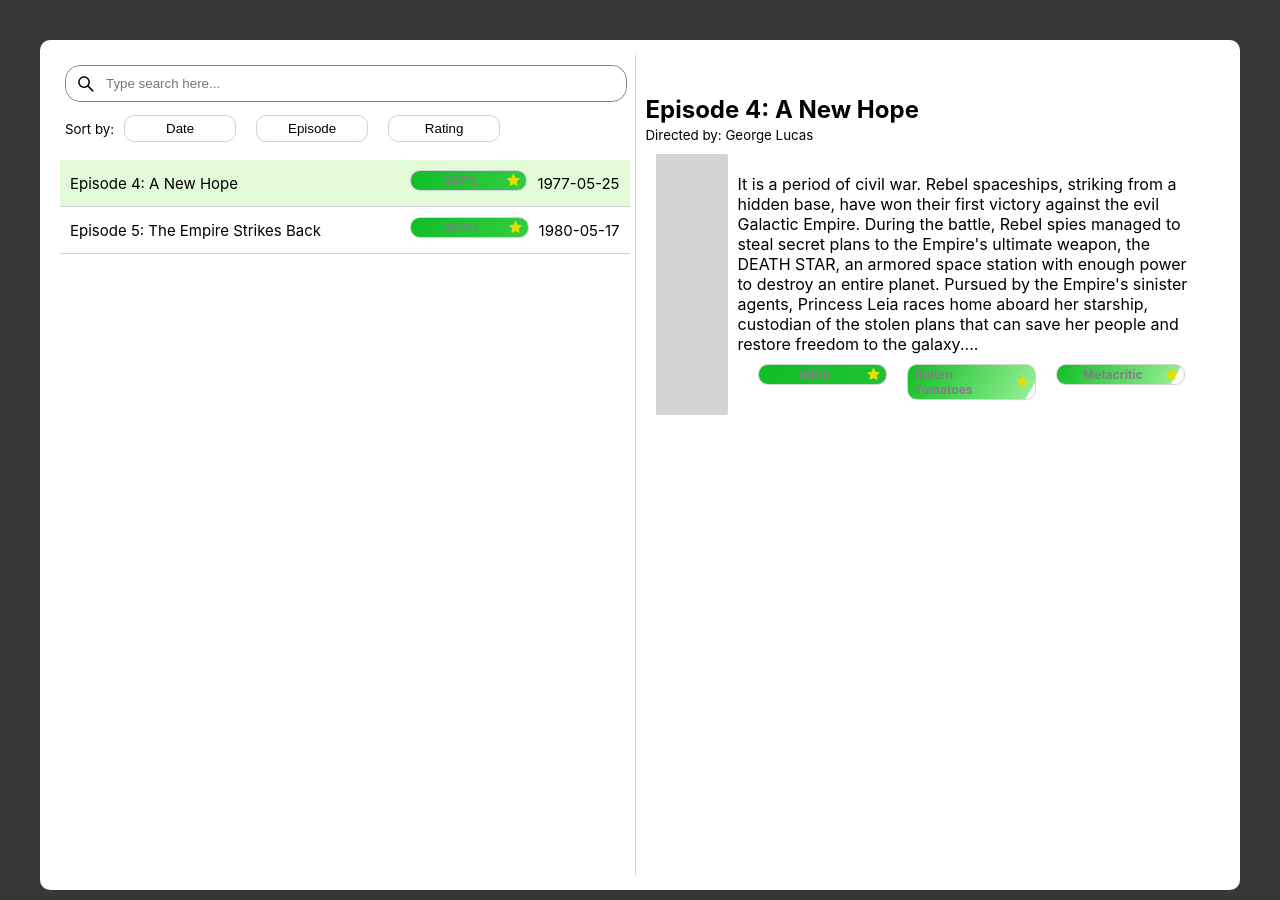
Test: HomePage component › Should filter list on search change
This screenshot has width=1280, height=900.
Expected: the number of elements with test id "filmItem" is 2, [60,160,630,207]; [60,207,630,254]
In the field with placeholder "Type search here...": (361, 84) [96,66,626,101], type "anew"
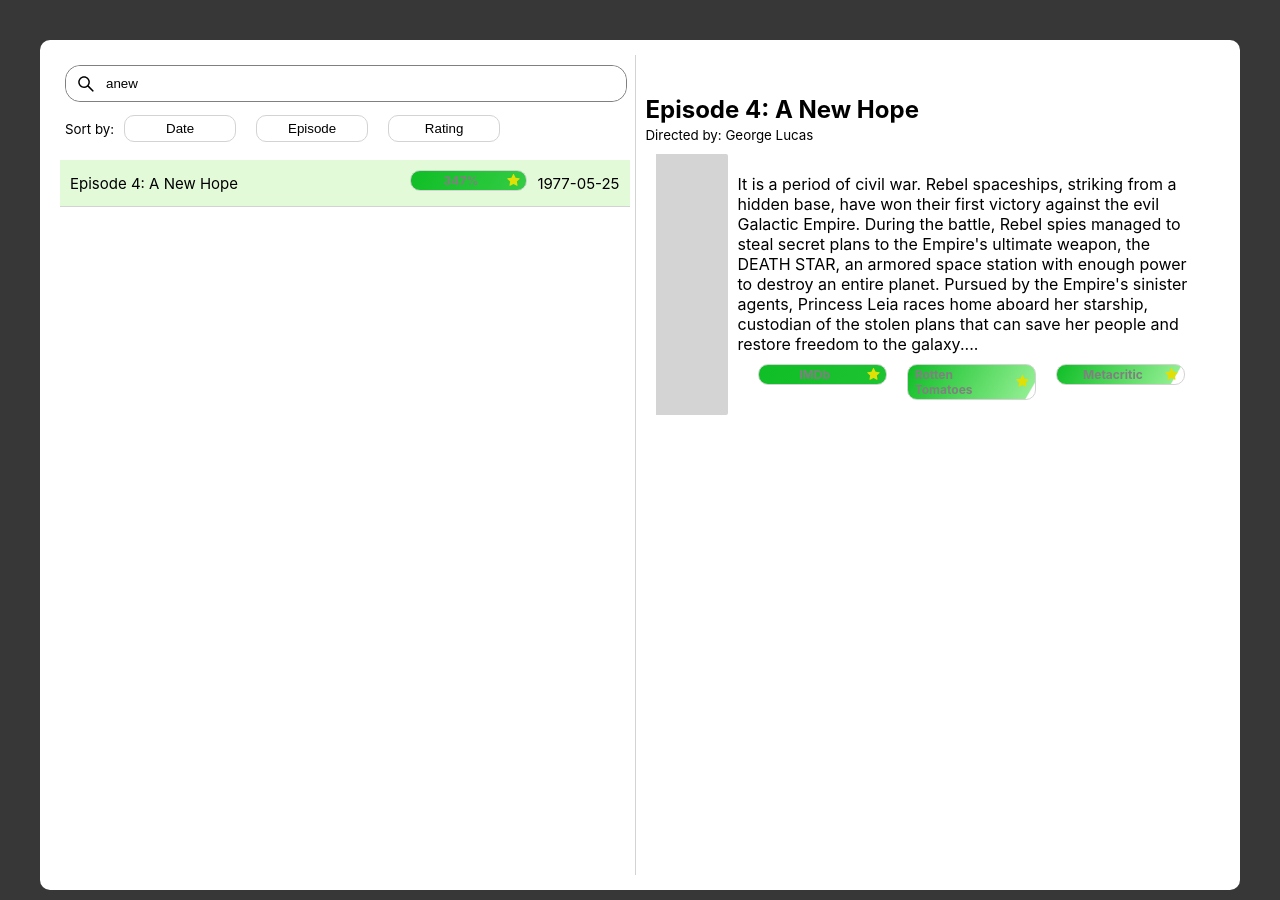
Now the number of elements with test id "filmItem" is 1, box [60,160,630,207]
Clear the field with placeholder "Type search here...": (361, 84) [96,66,626,101]
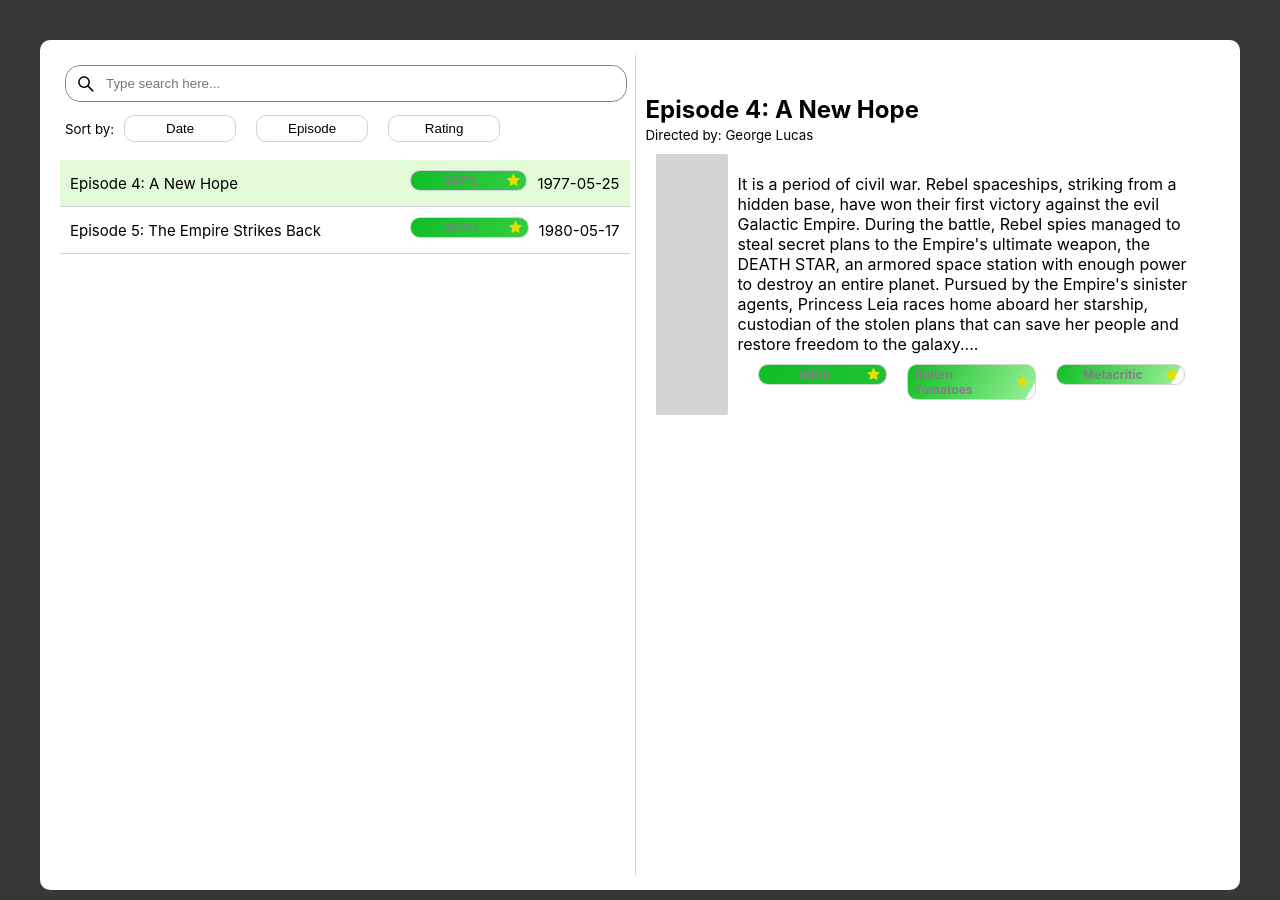
Now the number of elements with test id "filmItem" is 2, box [60,160,630,207]; [60,207,630,254]
